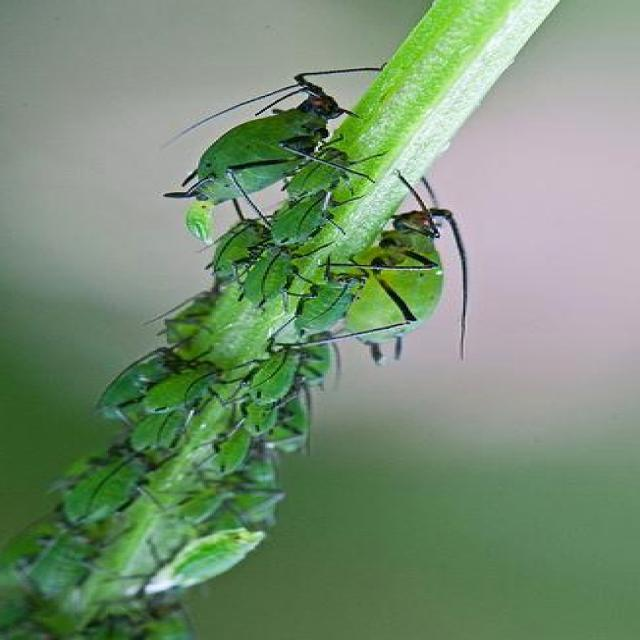aphid: (332, 196, 476, 352), (177, 80, 326, 226), (120, 339, 220, 429), (261, 258, 359, 344), (210, 193, 263, 293), (242, 224, 296, 307)
